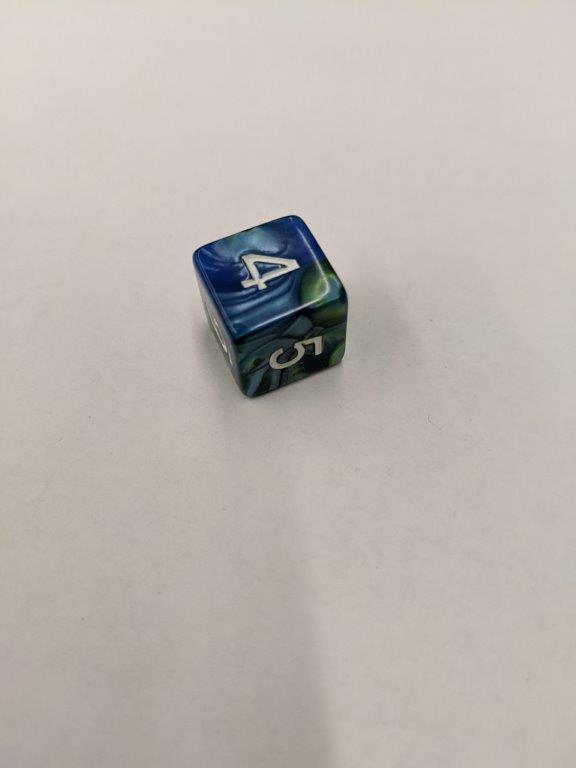d6-4: (192, 214, 350, 402)
